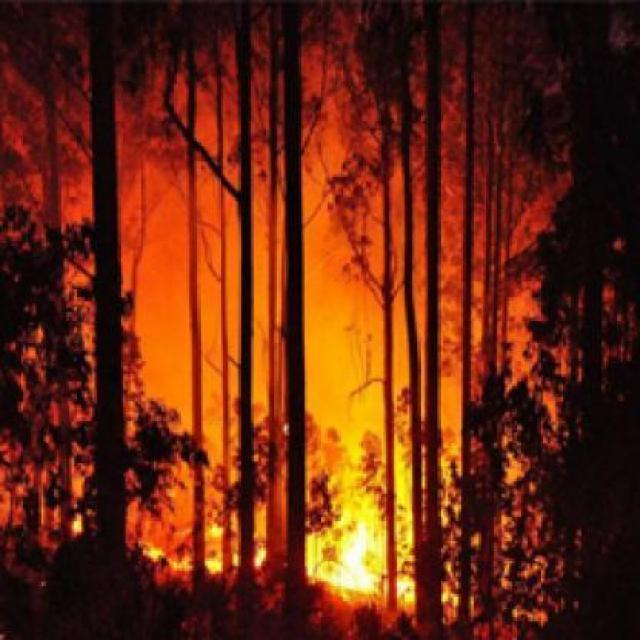Fire: (282, 392, 488, 631)
